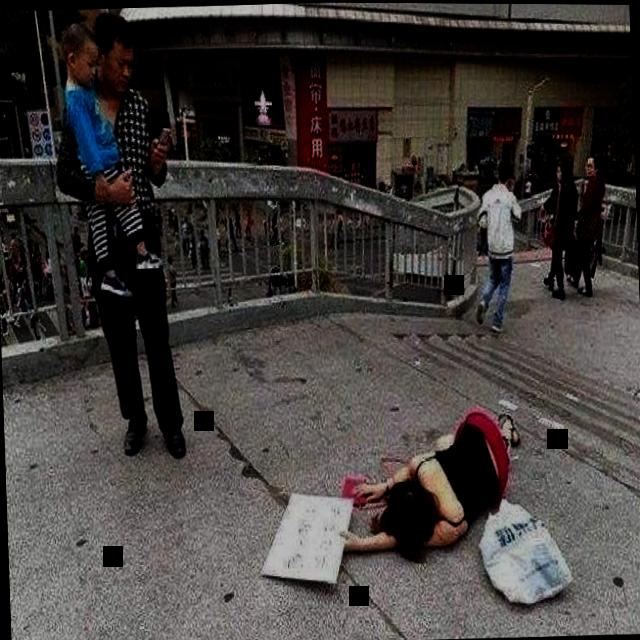Fall-Detected: (322, 383, 530, 577)
